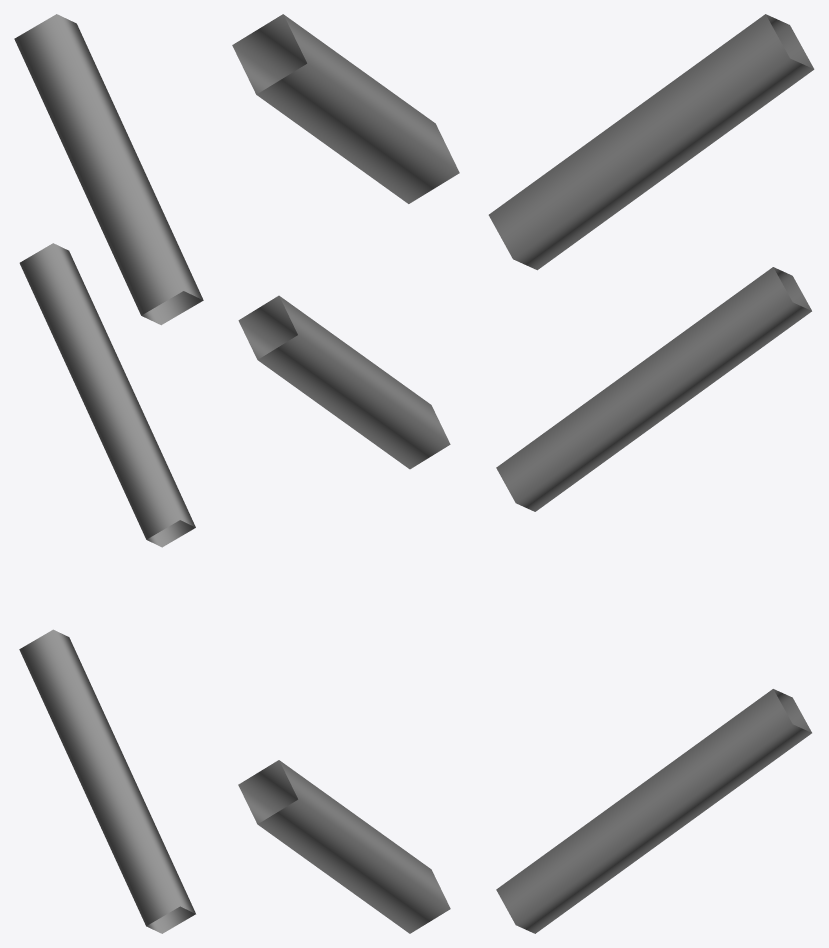
File: SW_ENV_Railing_StairRails_01.fbx
The picture shows the model from 3 angles, left to right: view 1: azimuth 30°, elevation 25°; view 2: azimuth 150°, elevation 25°; view 3: azimuth 270°, elevation 25°; orthographic projection. The views are drawn at different scales.
Parts seen in each view (by area): view 1: SW_ENV_Railing_StairRails_01; view 2: SW_ENV_Railing_StairRails_01; view 3: SW_ENV_Railing_StairRails_01.
Part boxes in pixels (x1,y1,x2,y2): SW_ENV_Railing_StairRails_01: (14,14,203,933); SW_ENV_Railing_StairRails_01: (232,14,459,933); SW_ENV_Railing_StairRails_01: (488,14,814,933).
Bounding box in the file's own units: 0.0712 × 0.9159 × 0.2942.
